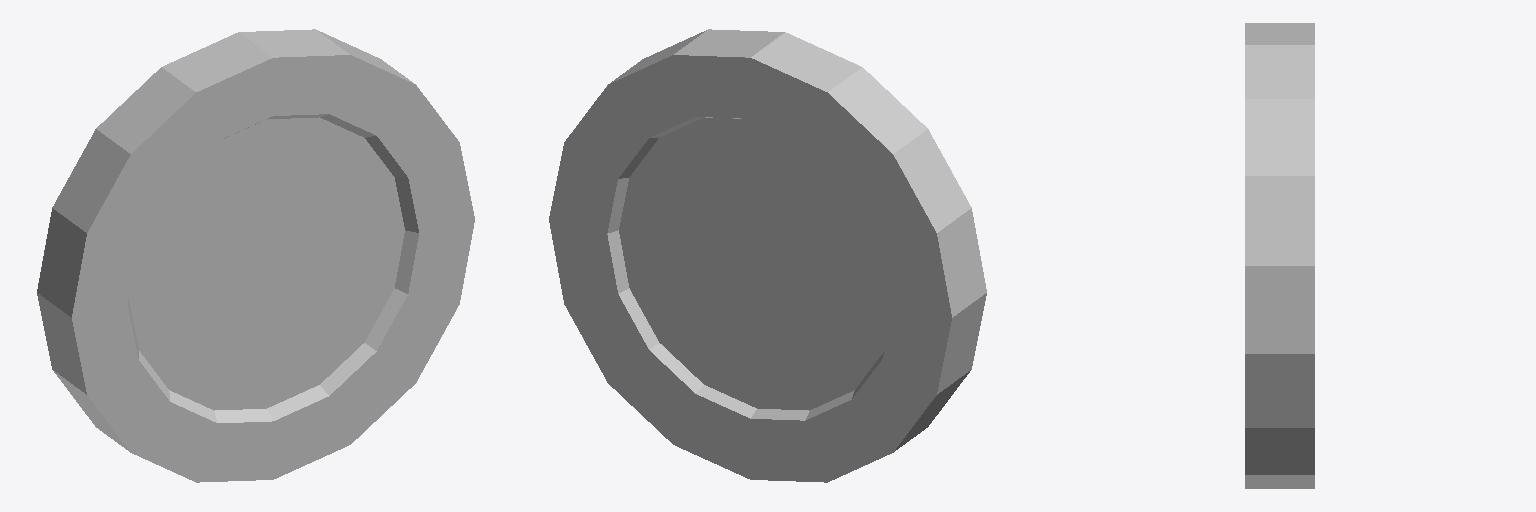
Rendered from moneda.obj.
3 renders of one model, left to right at view 1: azimuth 30°, elevation 25°; view 2: azimuth 150°, elevation 25°; view 3: azimuth 270°, elevation 25°, orthographic.
Visible parts, largest first — view 1: pCylinder1; view 2: pCylinder1; view 3: pCylinder1.
Boxes of the visible parts, box(x1,y1,x2,y2) form: pCylinder1: box(37, 29, 474, 482); pCylinder1: box(549, 29, 986, 482); pCylinder1: box(1245, 23, 1314, 488).
Size of the model in its own units: 0.5807 by 0.5807 by 0.0871.